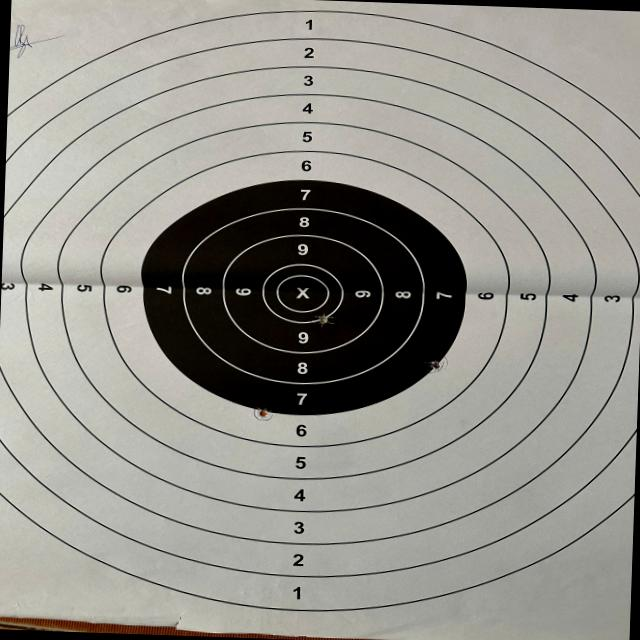bullet: (430, 360, 442, 372), (316, 316, 328, 323), (257, 410, 264, 418)
target: (0, 0, 639, 640)
